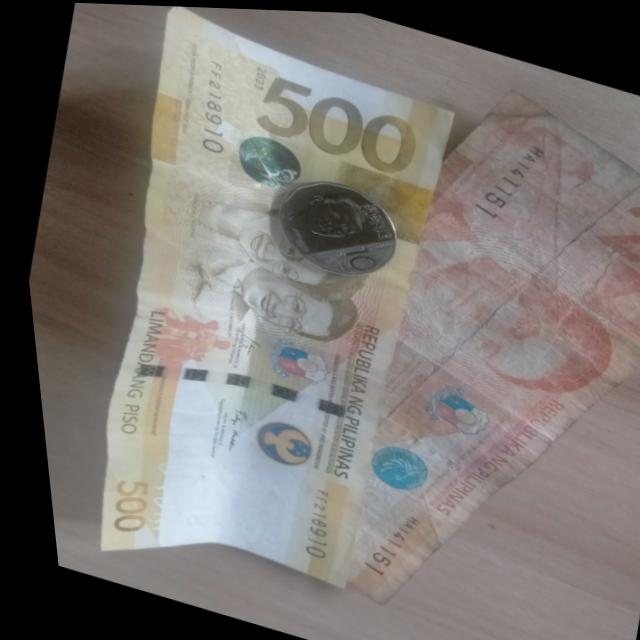10_New_Front: (271, 170, 396, 277)
